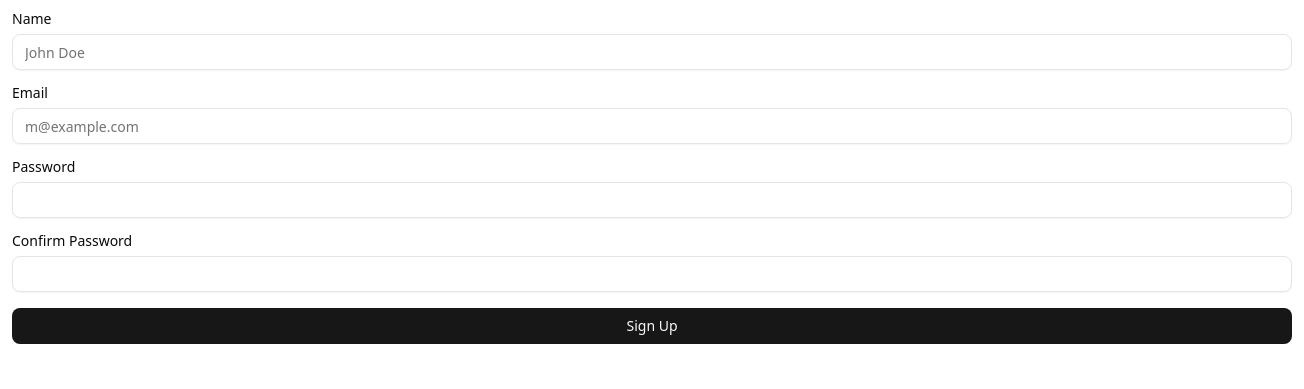
Test case: SignUpForm › shows error message if passwords do not match
Type "Test User" into the field labelled "Name".
click(652, 52); type("Test User")  # box [12,34,1292,70]
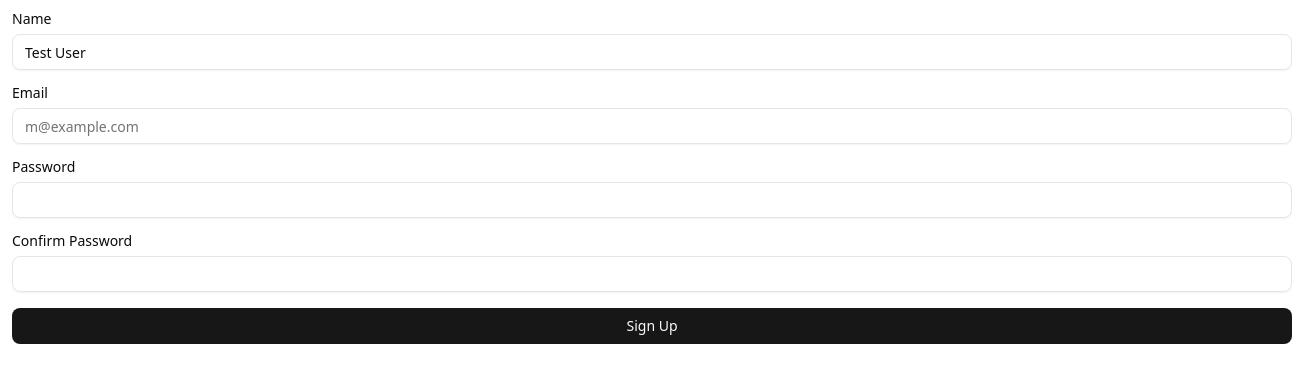
Type "test@example.com" into the field labelled "Email".
click(652, 126); type("test@example.com")  # box [12,108,1292,144]
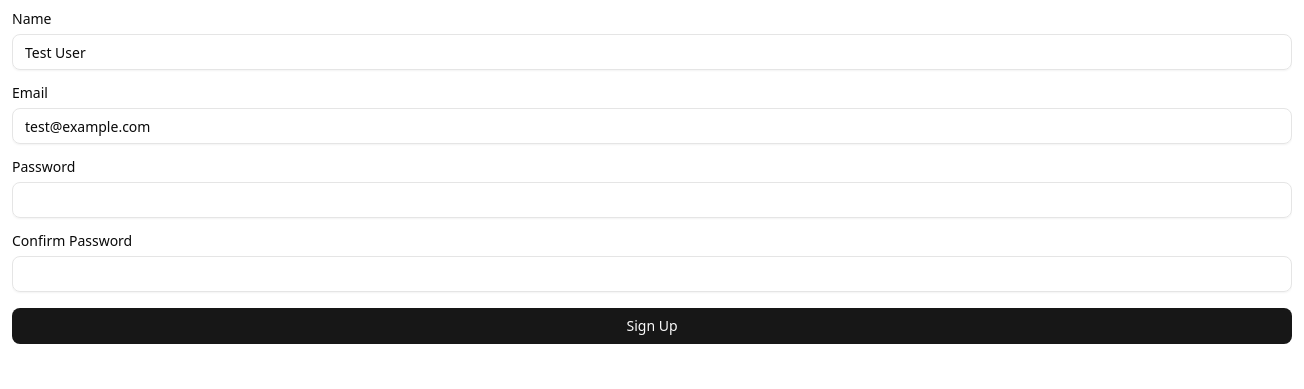
Type "password123" into the password field labelled "Password".
click(652, 200); type("password123")  # box [12,182,1292,218]
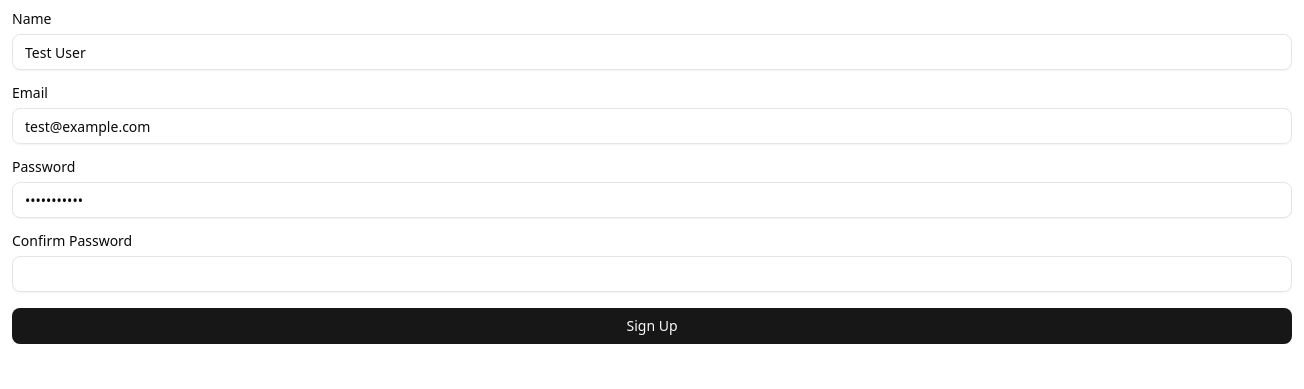
Type "mismatch" into the password field labelled "Confirm Password".
click(652, 274); type("mismatch")  # box [12,256,1292,292]
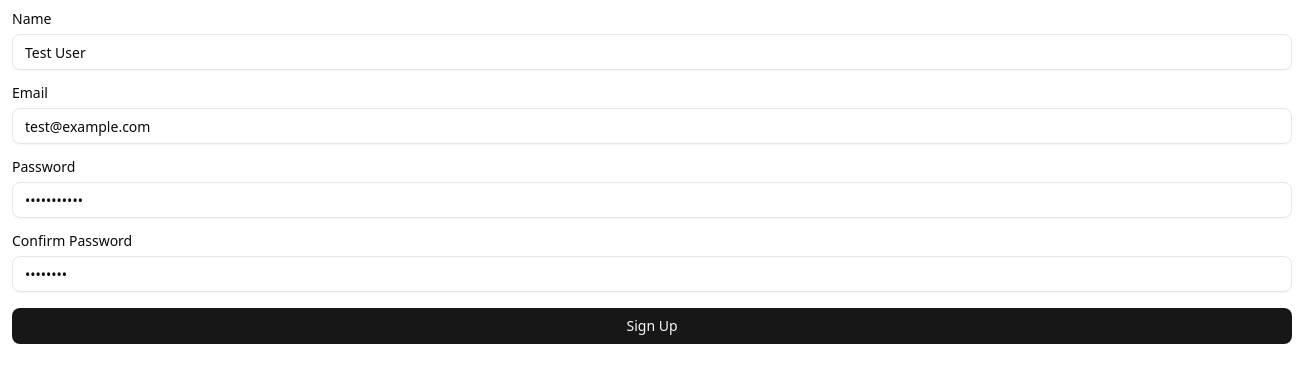
Click the button "Sign Up".
click(652, 326)  # box [12,308,1292,344]
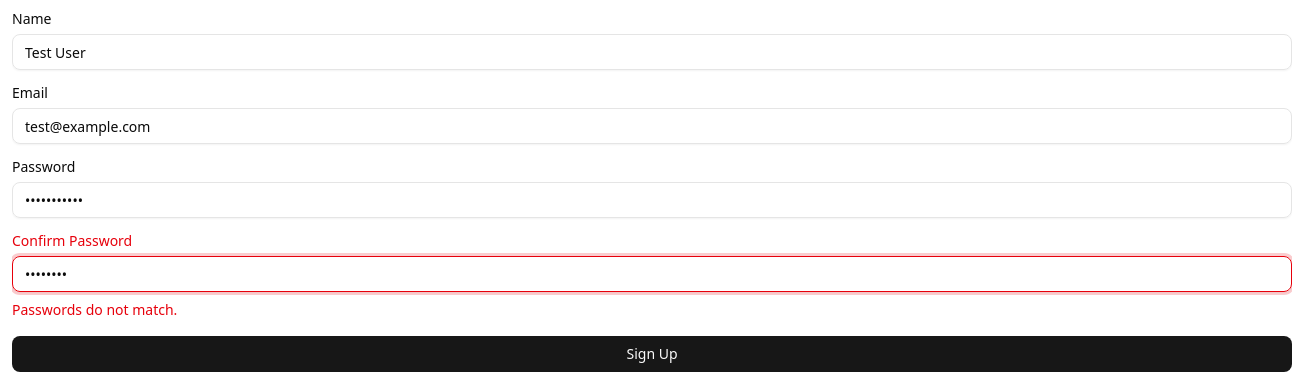
Now the text "Passwords do not match." is shown, box [12,300,177,319]
